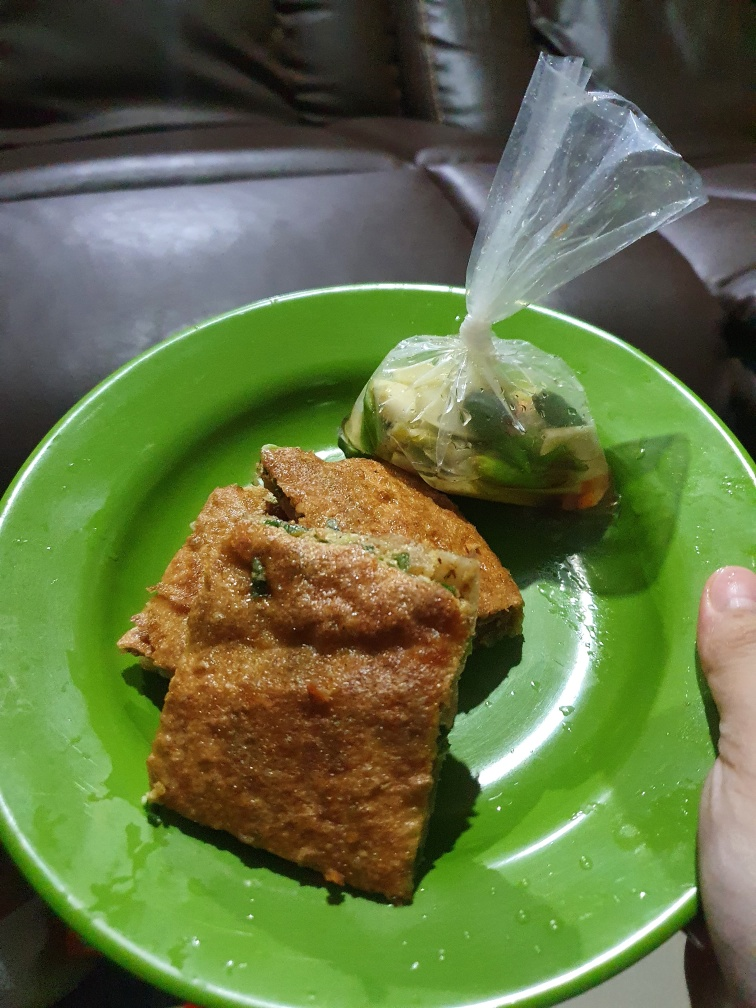martabak telor: (149, 517, 479, 906), (256, 400, 532, 647), (131, 474, 268, 674)
